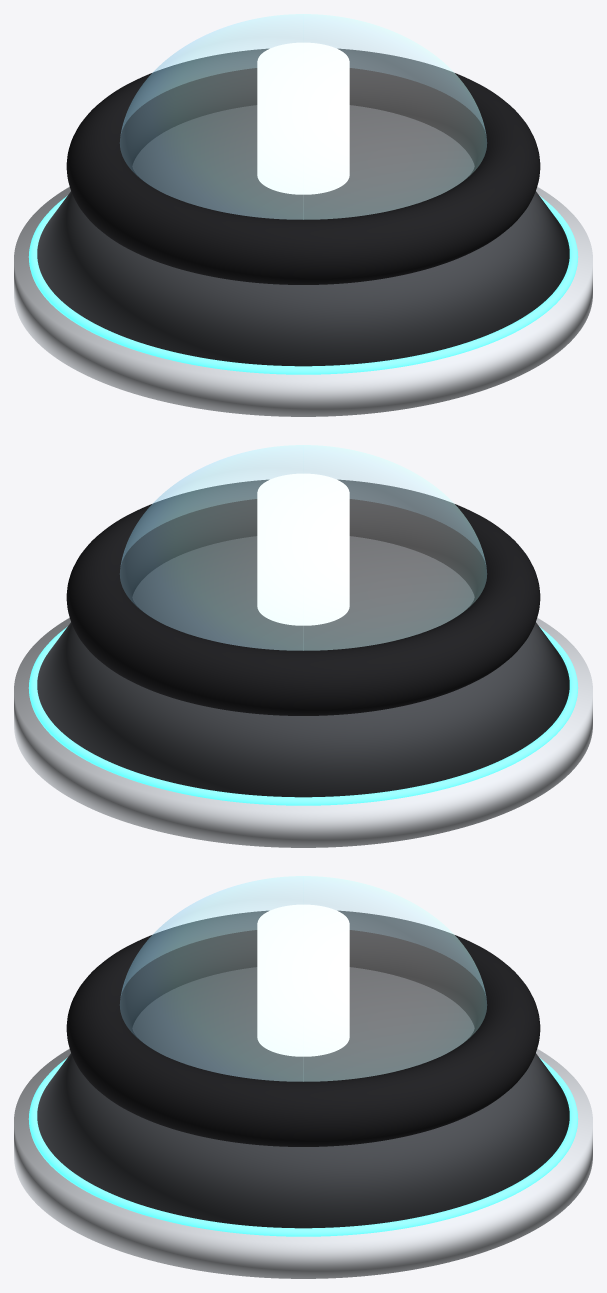
Rendered from Bumper.glb.
3 views of the same model, one above another, from view 1: azimuth 30°, elevation 25°; view 2: azimuth 150°, elevation 25°; view 3: azimuth 270°, elevation 25° (orthographic).
Visible parts, largest first — view 1: Bumper_Skirt, Bumper_Dome, Bumper_Rubber, Bumper_Base, Bumper_Core_Light, Bumper_Accent_Ring; view 2: Bumper_Skirt, Bumper_Dome, Bumper_Rubber, Bumper_Base, Bumper_Core_Light, Bumper_Accent_Ring; view 3: Bumper_Skirt, Bumper_Dome, Bumper_Rubber, Bumper_Base, Bumper_Core_Light, Bumper_Accent_Ring.
Part boxes in pixels (bbox=[...]): Bumper_Skirt: bbox=[37, 105, 569, 366]; Bumper_Dome: bbox=[120, 14, 486, 219]; Bumper_Rubber: bbox=[66, 48, 540, 284]; Bumper_Base: bbox=[14, 187, 592, 416]; Bumper_Core_Light: bbox=[257, 42, 349, 194]; Bumper_Accent_Ring: bbox=[28, 195, 578, 374]; Bumper_Skirt: bbox=[37, 536, 569, 797]; Bumper_Dome: bbox=[120, 445, 486, 650]; Bumper_Rubber: bbox=[66, 479, 540, 715]; Bumper_Base: bbox=[14, 618, 592, 847]; Bumper_Core_Light: bbox=[257, 473, 349, 625]; Bumper_Accent_Ring: bbox=[28, 626, 578, 805]; Bumper_Skirt: bbox=[37, 967, 569, 1228]; Bumper_Dome: bbox=[120, 876, 486, 1081]; Bumper_Rubber: bbox=[66, 910, 540, 1146]; Bumper_Base: bbox=[14, 1049, 592, 1278]; Bumper_Core_Light: bbox=[257, 904, 349, 1056]; Bumper_Accent_Ring: bbox=[28, 1057, 578, 1236].
Bounding box in the file's own units: 1.51 × 0.7357 × 1.51.
